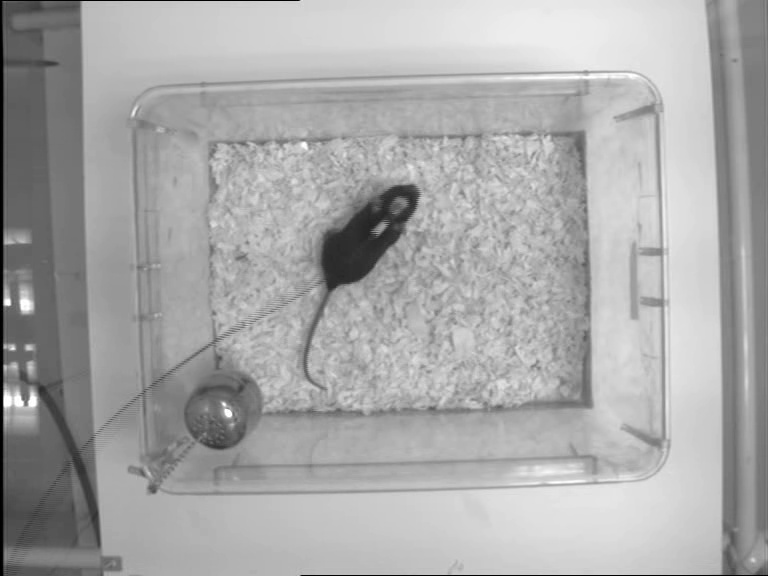mice: (299, 183, 421, 394)
